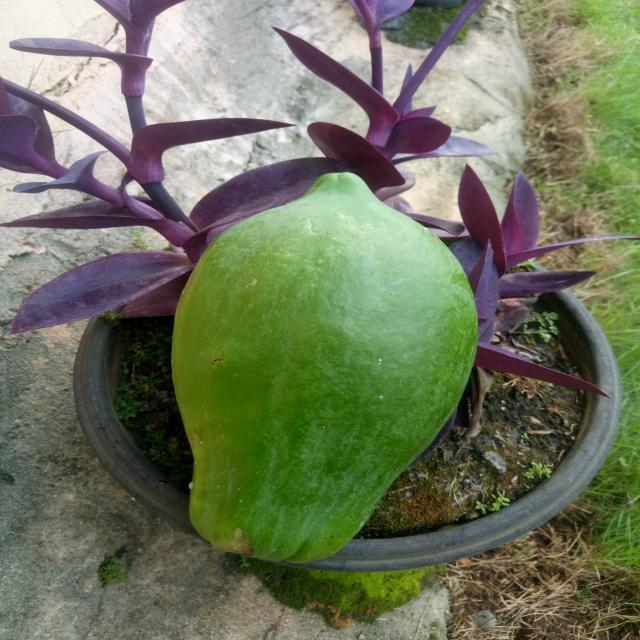Pepaya unrippen: (159, 169, 490, 569)
